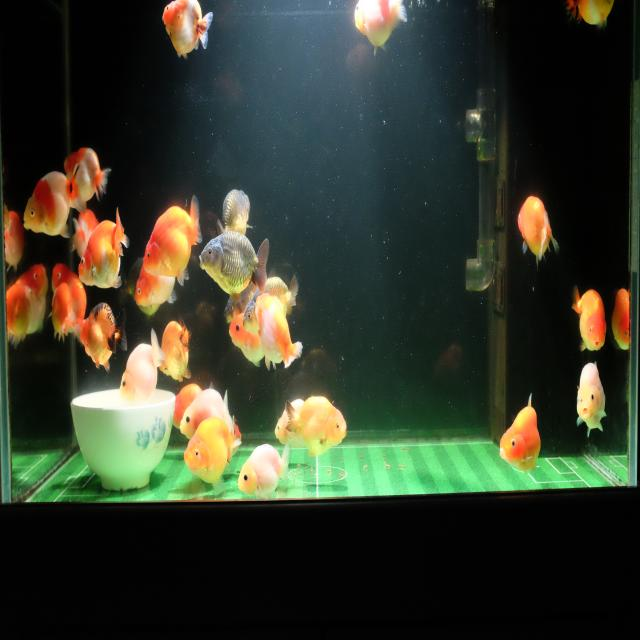Tilapia: (141, 193, 203, 287), (22, 157, 88, 240), (198, 229, 269, 306), (182, 412, 243, 499), (76, 202, 132, 295), (285, 391, 349, 462), (254, 292, 304, 374), (76, 299, 128, 377), (243, 270, 303, 337), (498, 389, 543, 478), (117, 330, 165, 409), (160, 0, 216, 66), (60, 142, 113, 207), (516, 192, 560, 270), (237, 440, 291, 502), (353, 0, 409, 59), (227, 308, 277, 371), (178, 387, 236, 440), (571, 278, 608, 358), (12, 260, 47, 341), (574, 360, 608, 441), (157, 315, 195, 386), (50, 257, 85, 332), (214, 182, 254, 244), (131, 257, 176, 312), (4, 283, 36, 350), (273, 398, 307, 450), (172, 379, 206, 431), (70, 205, 98, 263), (50, 280, 76, 342), (611, 284, 630, 356)
